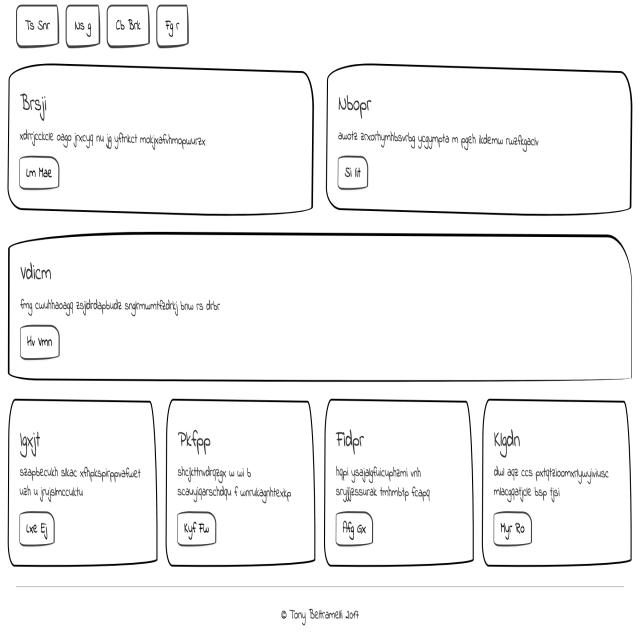Button: (173, 507, 219, 547), (18, 508, 59, 552), (18, 322, 62, 358), (334, 508, 374, 546), (493, 508, 532, 542), (20, 157, 60, 189), (336, 153, 370, 190)
Card: (8, 232, 631, 382), (8, 57, 312, 216), (324, 65, 630, 215), (7, 397, 157, 567), (322, 398, 473, 564), (167, 400, 315, 569)
Footer: (1, 585, 640, 640)
Heading 6: (16, 90, 52, 123), (490, 426, 522, 461), (332, 426, 367, 456), (176, 428, 212, 456), (17, 428, 45, 462), (337, 96, 372, 121)
Navigation Bar: (13, 3, 190, 50)
Paragraph: (175, 462, 300, 507), (335, 128, 544, 152), (16, 464, 147, 501), (494, 461, 612, 502), (15, 128, 209, 151), (334, 462, 436, 501), (17, 299, 219, 311)
